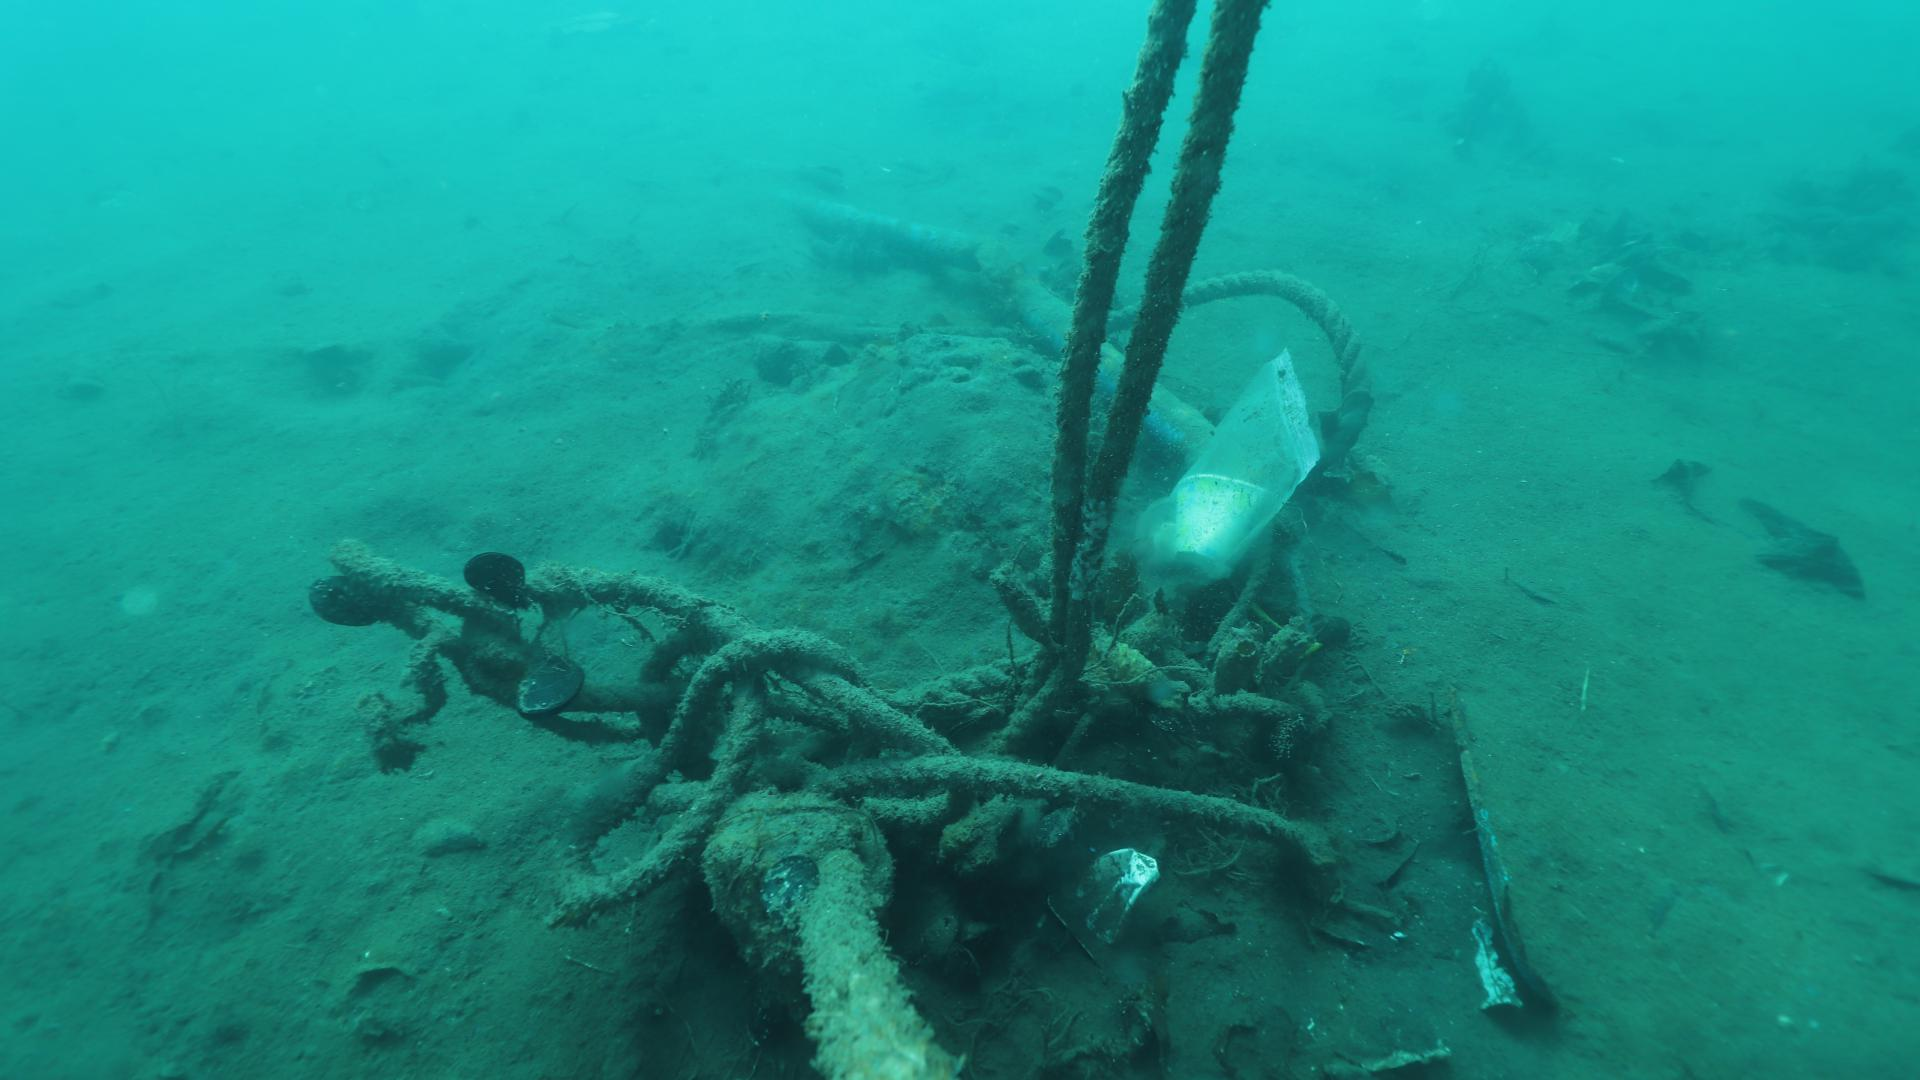bundle of ropes: (454, 0, 1371, 910)
